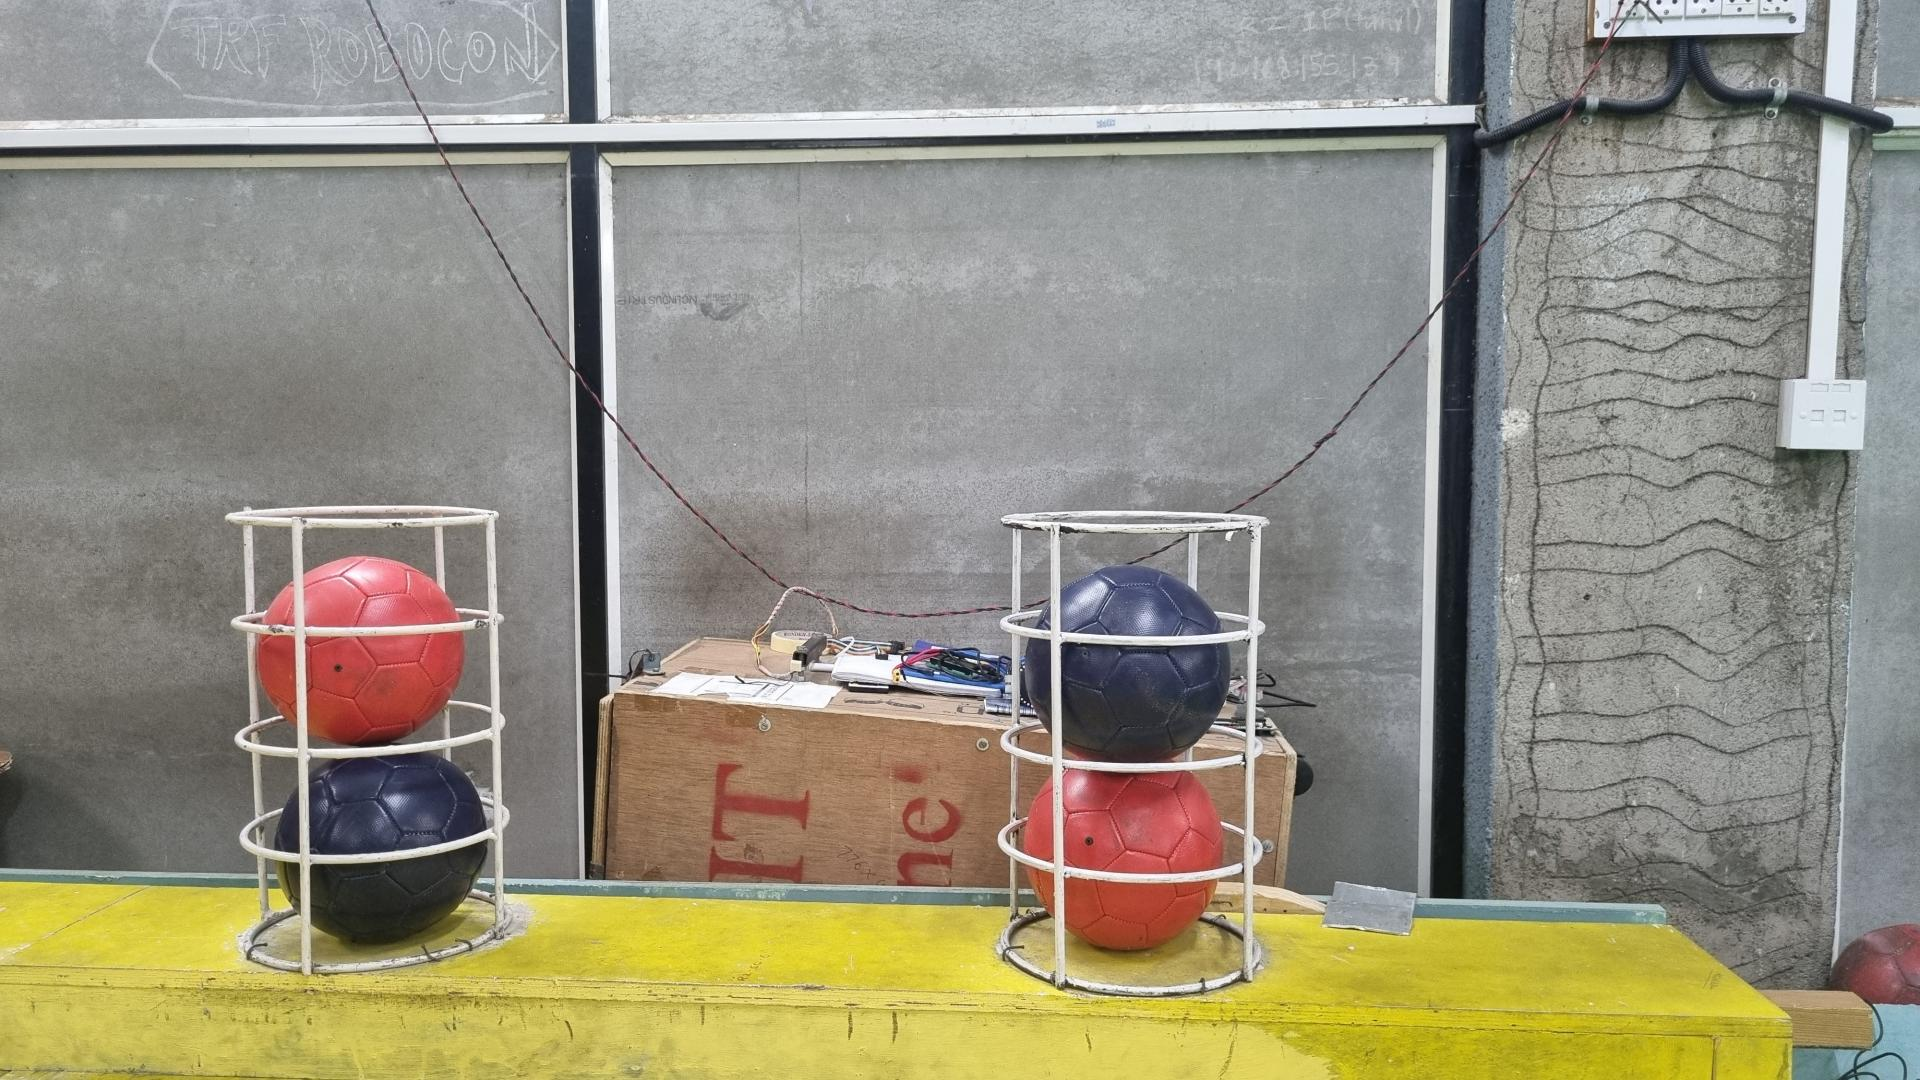dhoka: (1023, 566, 1230, 765), (274, 753, 488, 944)
laale: (255, 555, 465, 745), (1021, 767, 1226, 952)
